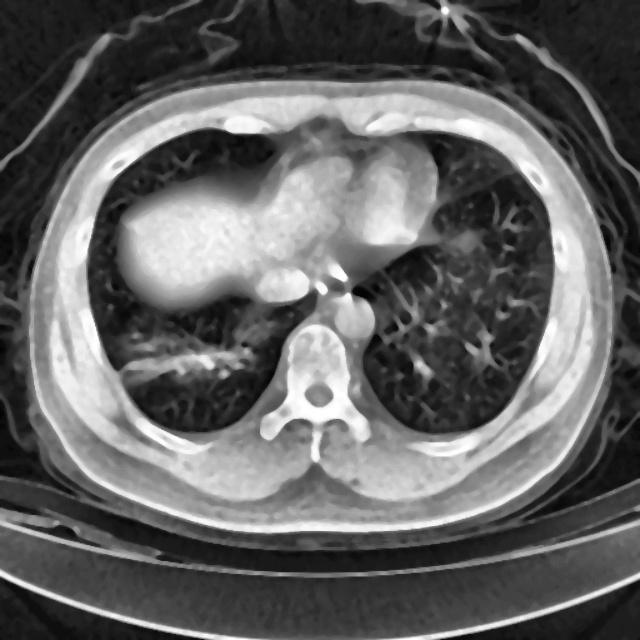covid: (22, 66, 616, 548)
